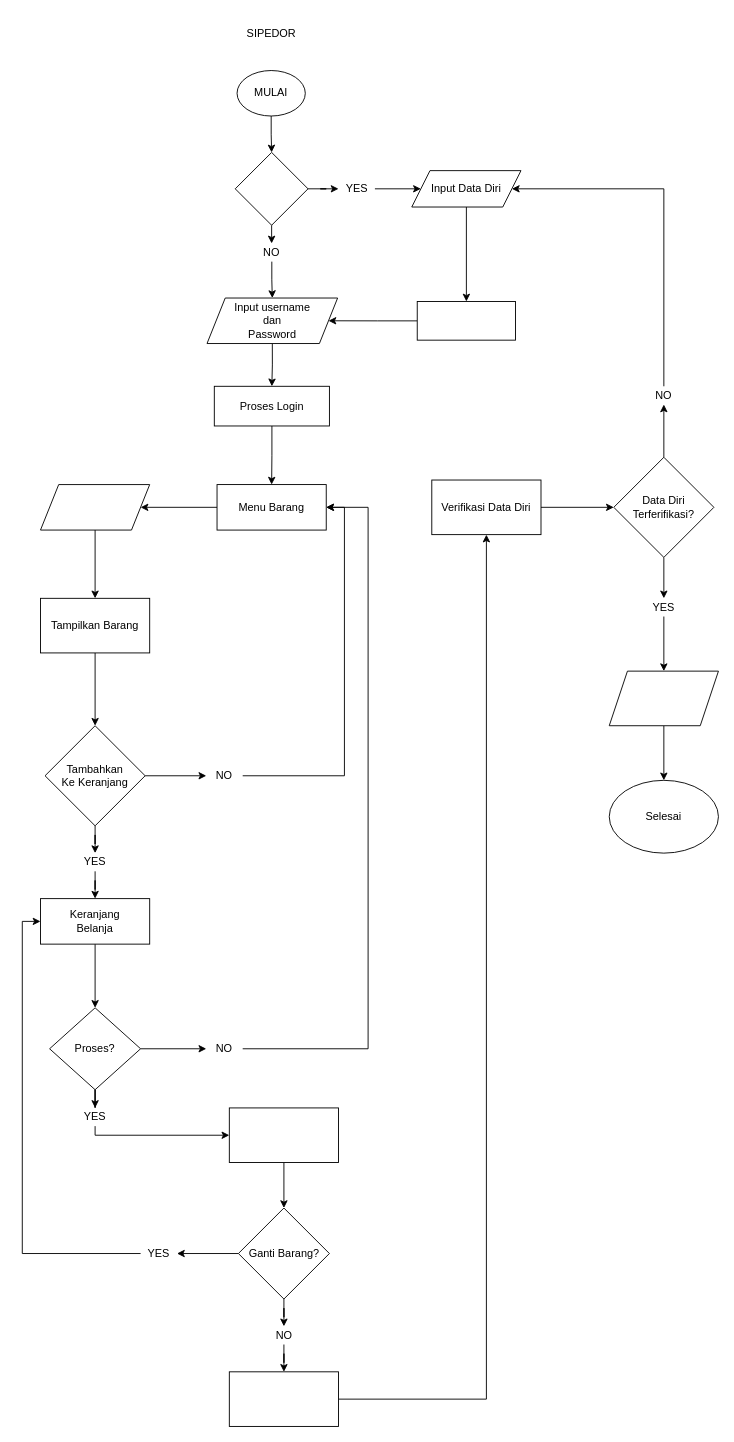
This 734x1442 diagram has some shape labels left out. The centre of each missing label's shape, as x and y in pixels:
"Cetak Struk" belongs at (663,698).
"Pembayaran" belongs at (283,1135).
"Pencarian Barang" belongs at (95,507).
"Proses Pembayaran" belongs at (283,1398).
"Proses Registrasi" belongs at (466,320).
"Register?" belongs at (271,188).
